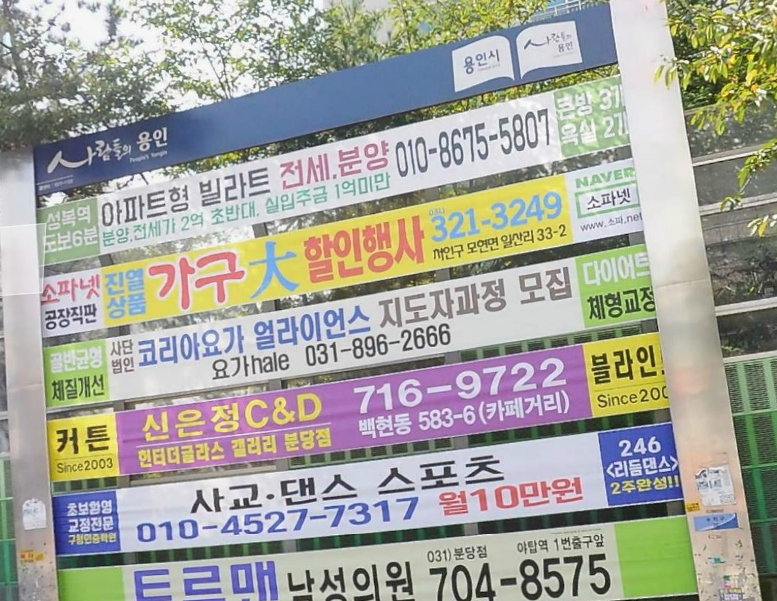banner: (28, 72, 628, 268), (34, 153, 637, 339), (41, 242, 670, 413), (44, 323, 673, 492), (55, 420, 687, 561), (57, 511, 703, 601)
